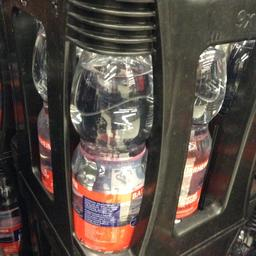water: (68, 52, 150, 254)
